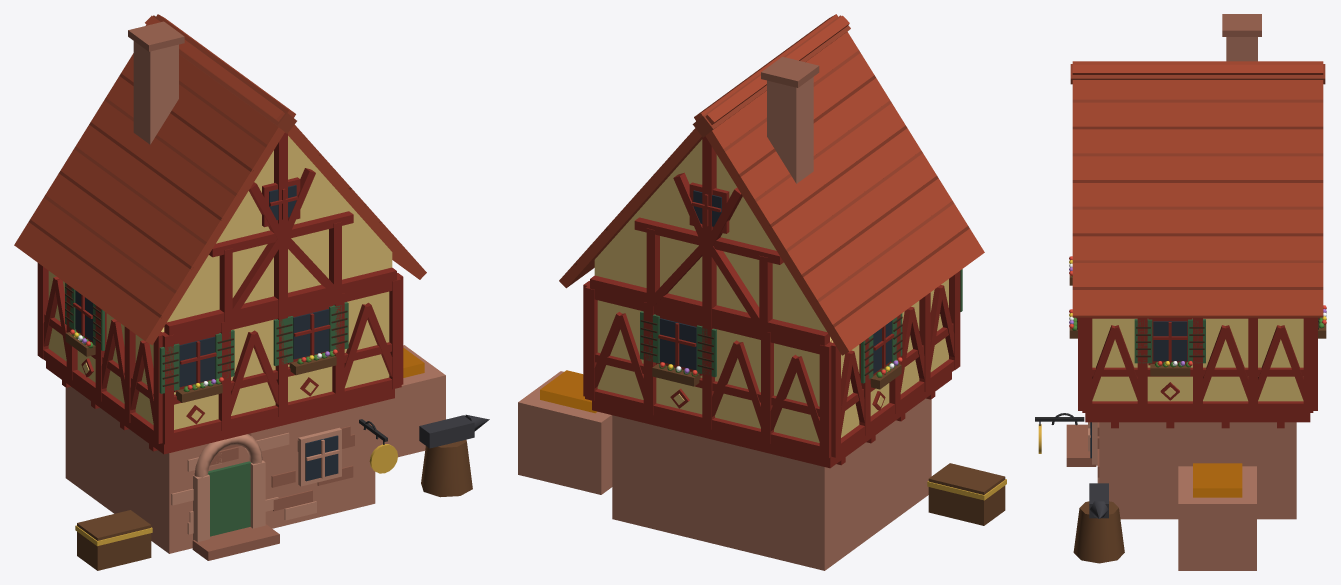
The model's file is muenzpraege.glb.
The picture shows the model from 3 angles, left to right: view 1: azimuth 30°, elevation 25°; view 2: azimuth 150°, elevation 25°; view 3: azimuth 270°, elevation 25°; orthographic projection. The views are drawn at different scales.
Size of the model in its own units: 4.39 by 4.81 by 2.96.
